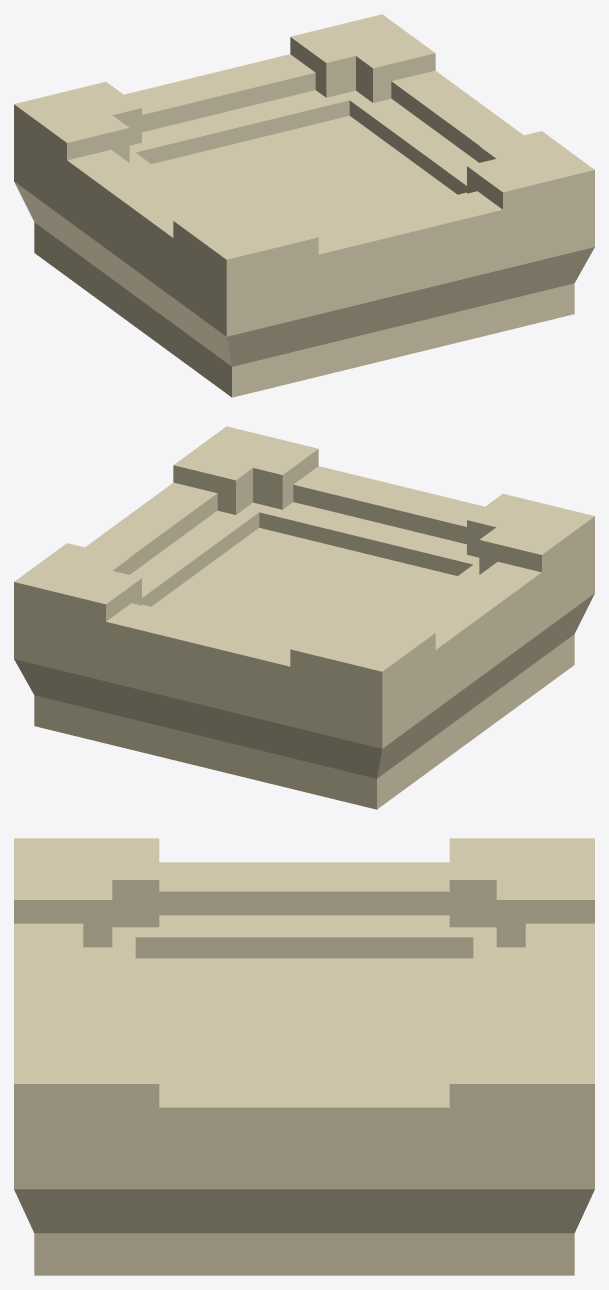
The model's file is towersquaretopcolor.glb.
3 views of the same model, one above another, from view 1: azimuth 30°, elevation 25°; view 2: azimuth 150°, elevation 25°; view 3: azimuth 270°, elevation 25° (orthographic). The views are drawn at different scales.
Visible parts, largest first — view 1: towerSquareTopColor; view 2: towerSquareTopColor; view 3: towerSquareTopColor.
Boxes of the visible parts, x1,y1,x2,y2 form: towerSquareTopColor: [14, 14, 594, 397]; towerSquareTopColor: [14, 426, 594, 809]; towerSquareTopColor: [14, 838, 594, 1275].
Bounding box in the file's own units: 10 × 3.8 × 10.
